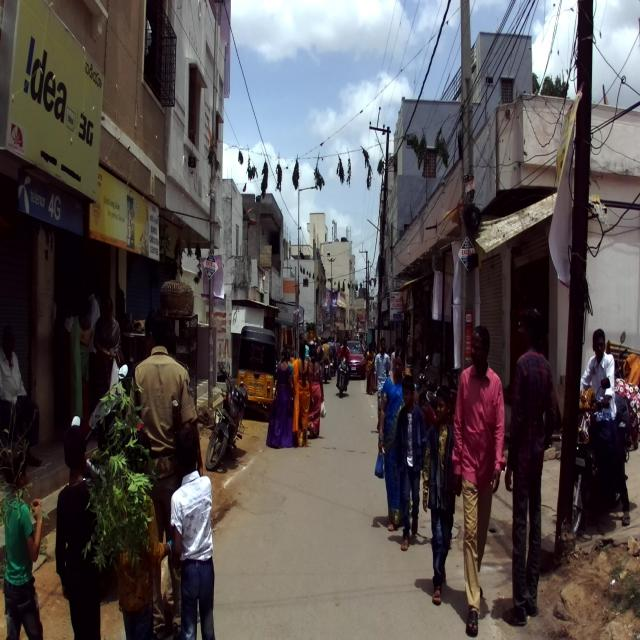motorcycle_Hero: (205, 361, 249, 471)
motorcycle_TVS: (568, 377, 634, 540)
